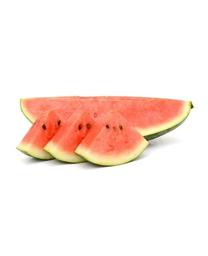watermelon: (17, 96, 196, 167)
